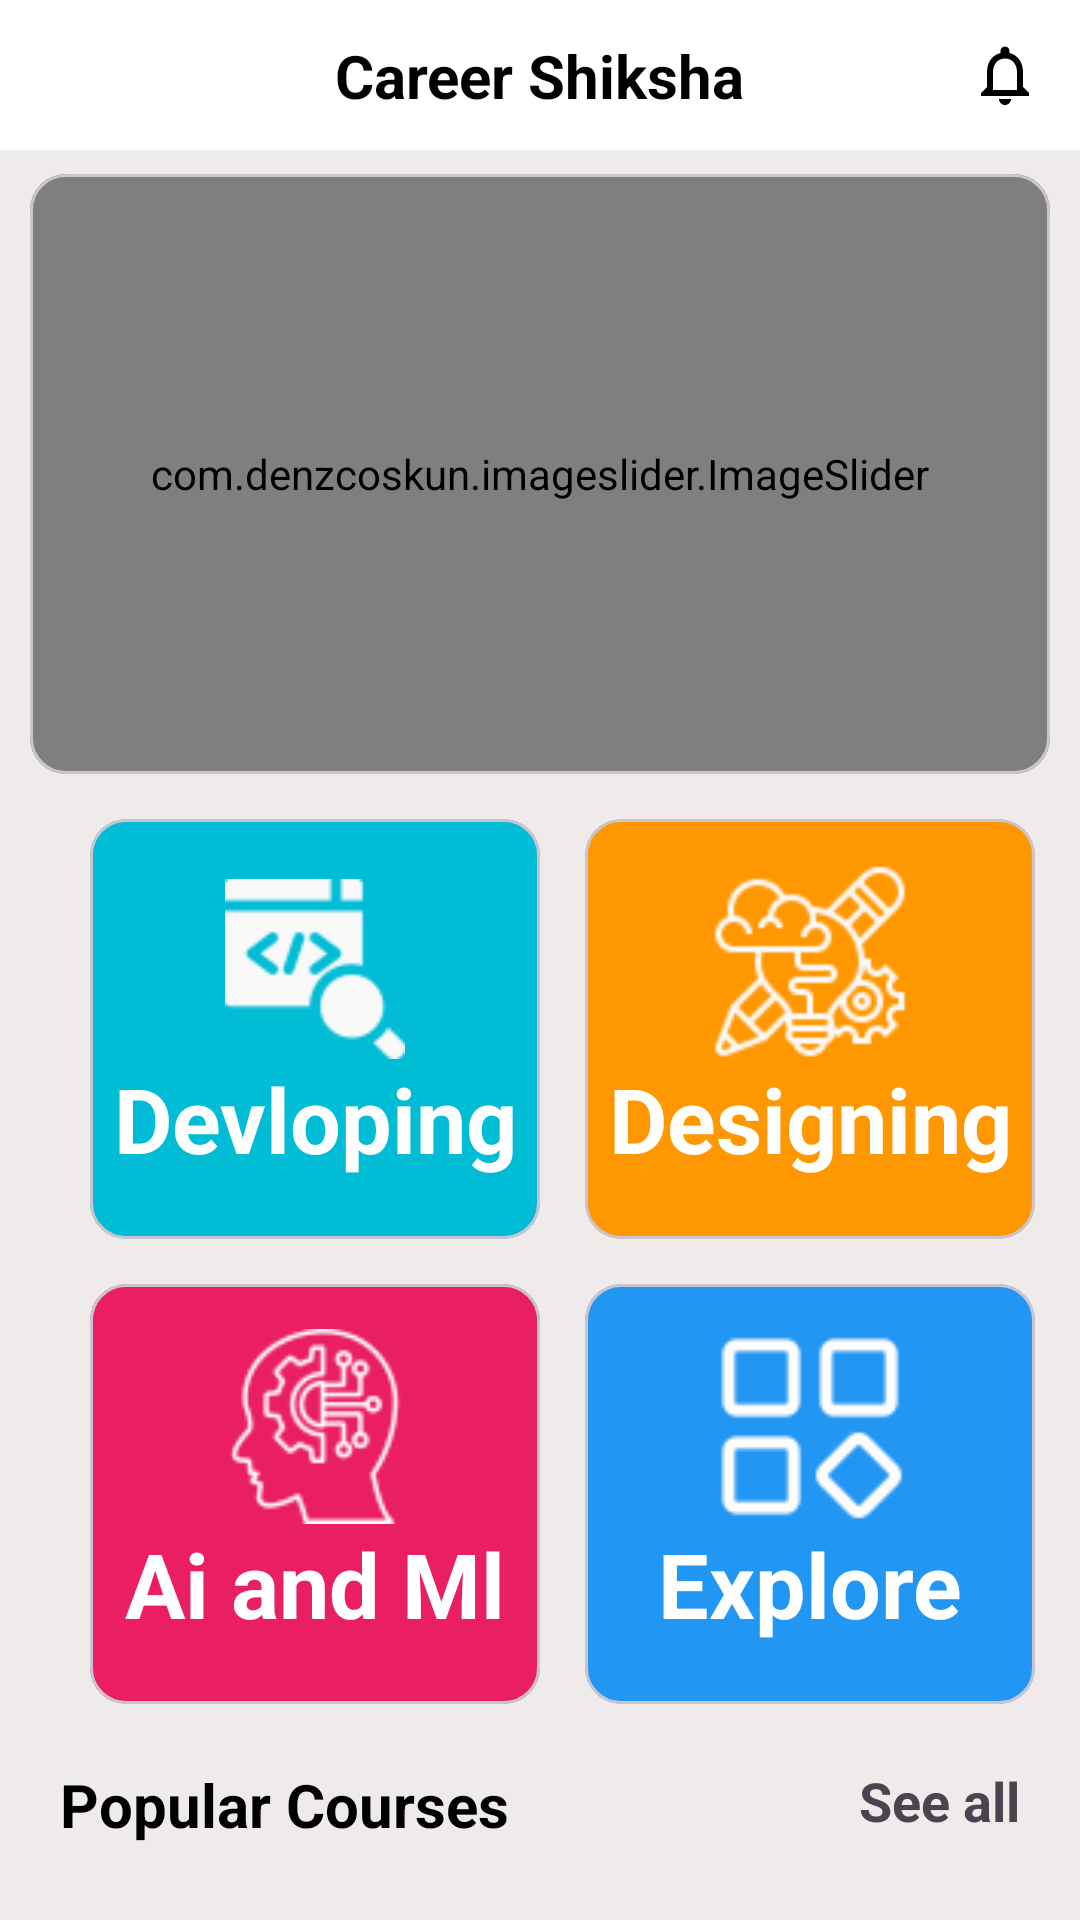

Icon bounding boxes for this 1080x1920 phone screenshot, format (x1, y1, x2, y2):
notifications: (981, 46, 1029, 105)
